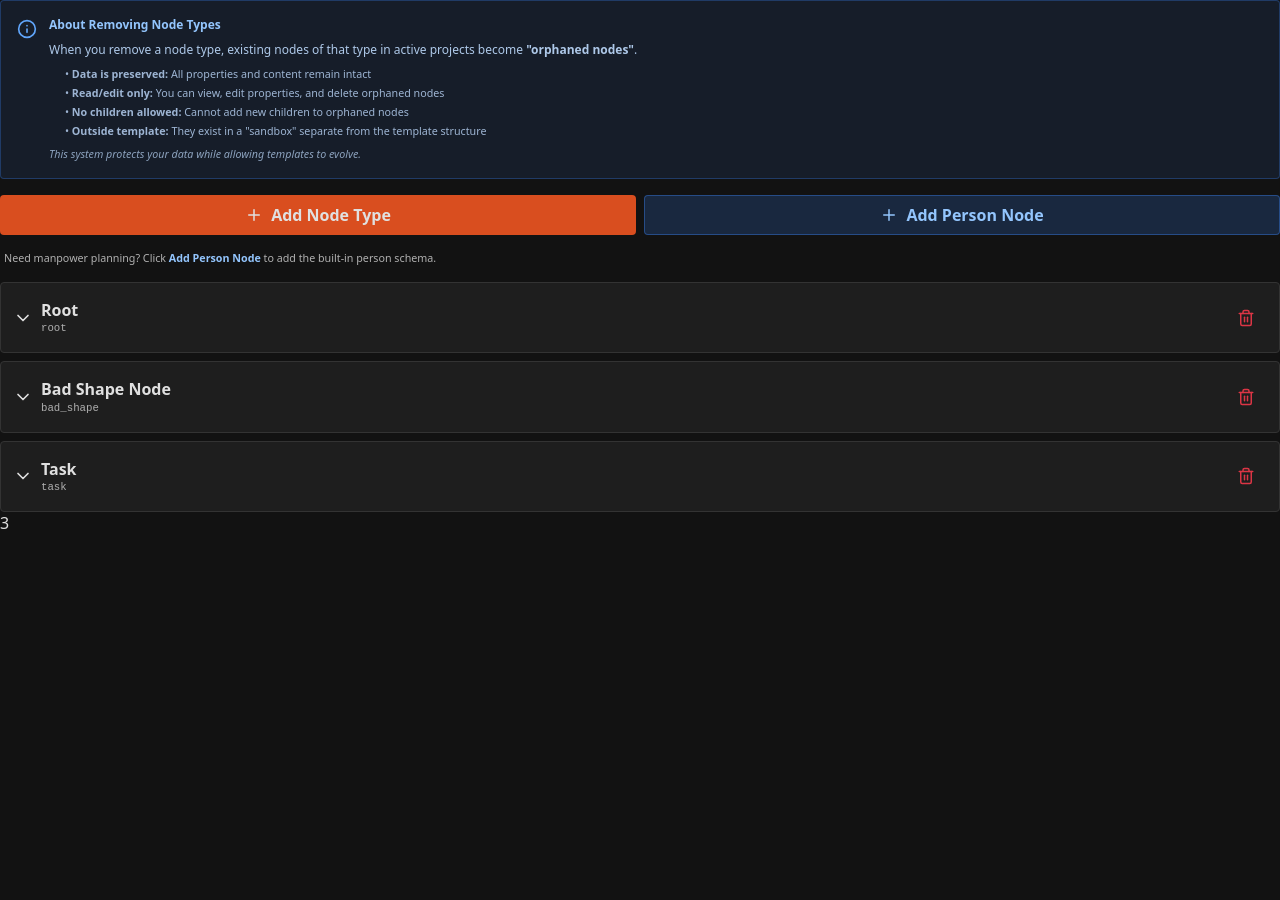
Test: NodeTypeEditor › deletes node type even when another node has non-array allowed_children
The image size is (1280, 900).
Click the 3rd button named "Delete node type" at (1246, 476), box [1229,464,1263,490]
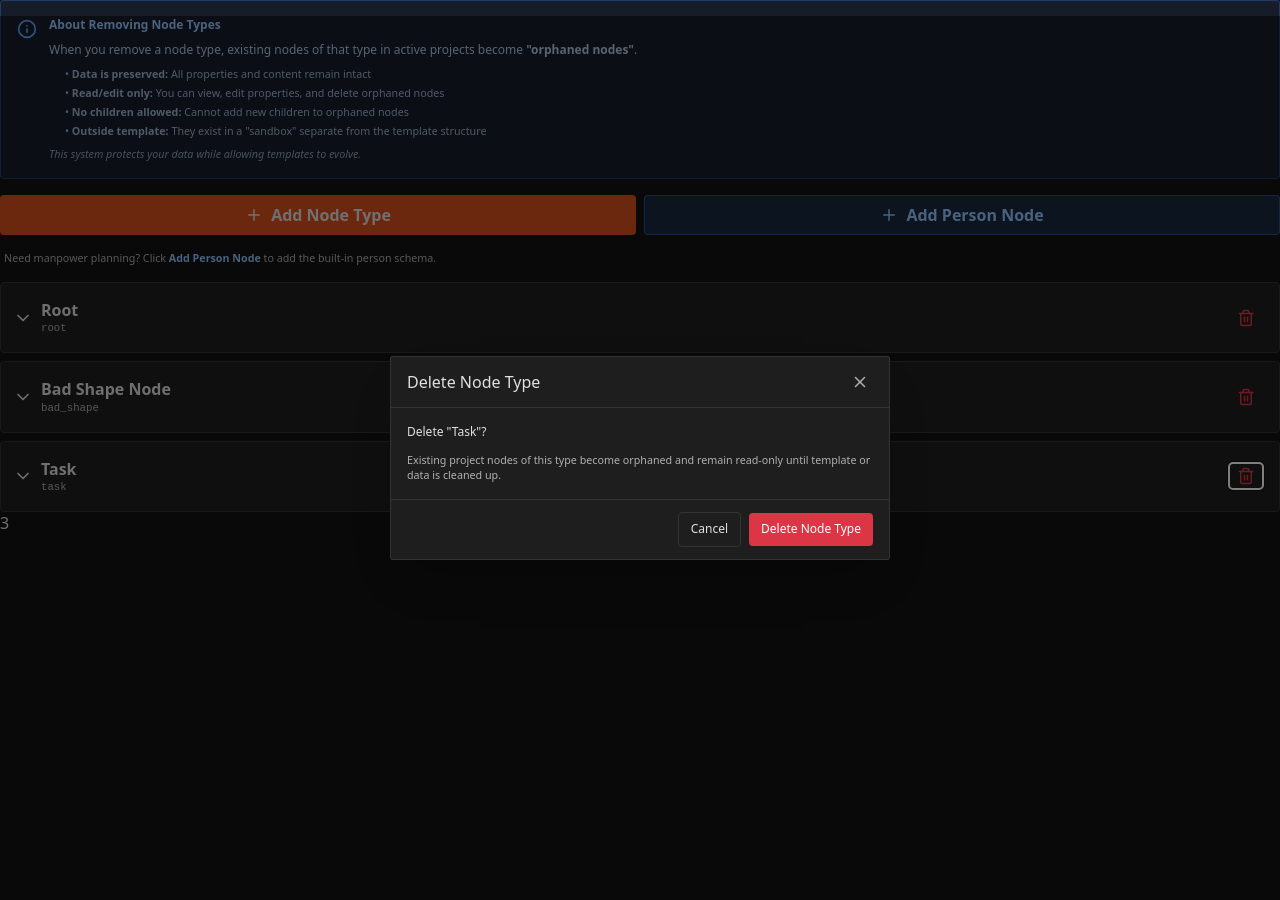
Click the button "Delete Node Type" at (811, 529), box [749,513,873,546]
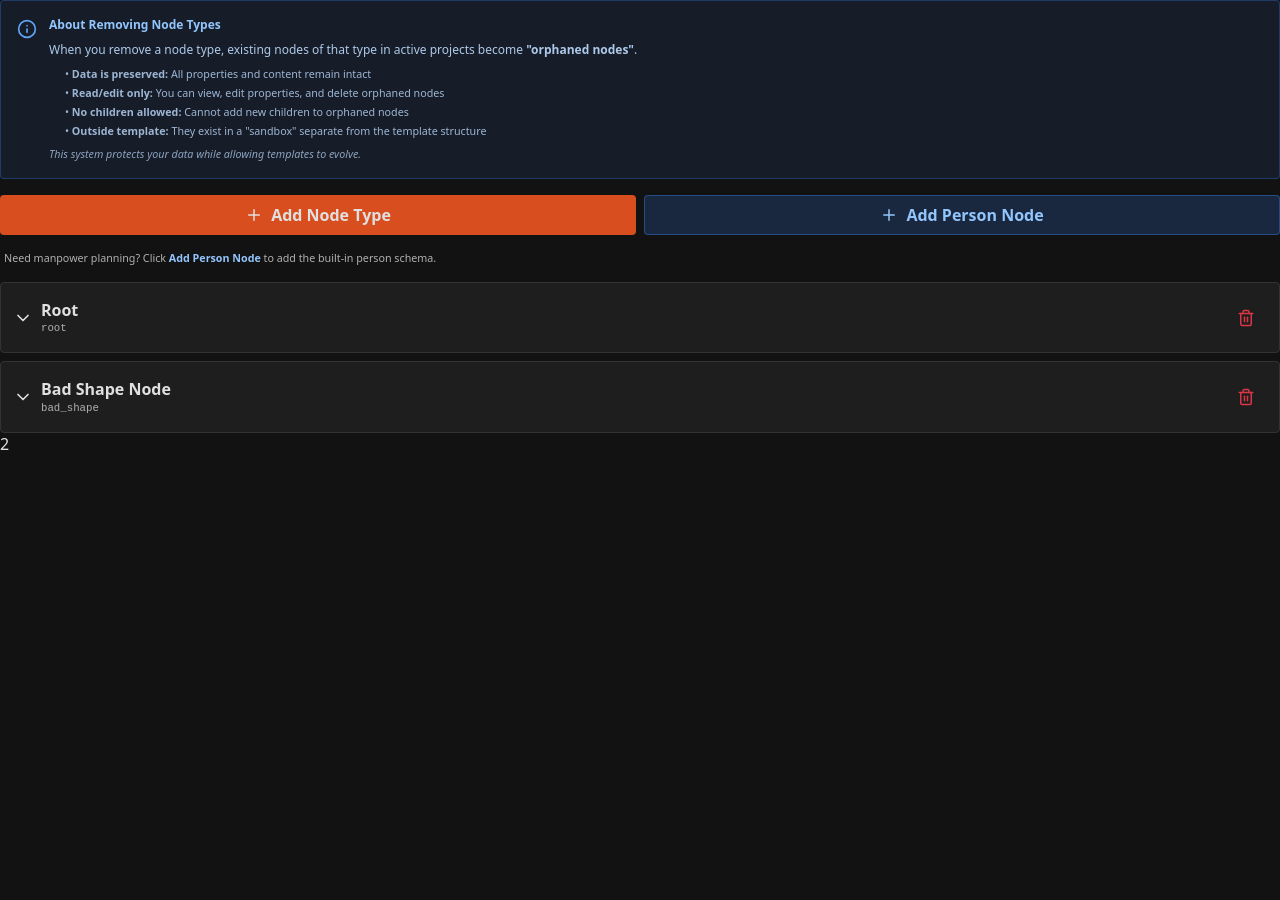
Expected: the text with test id "node-type-count" reads "2", [0,433,9,455]
Expected: the heading "Task" is gone
